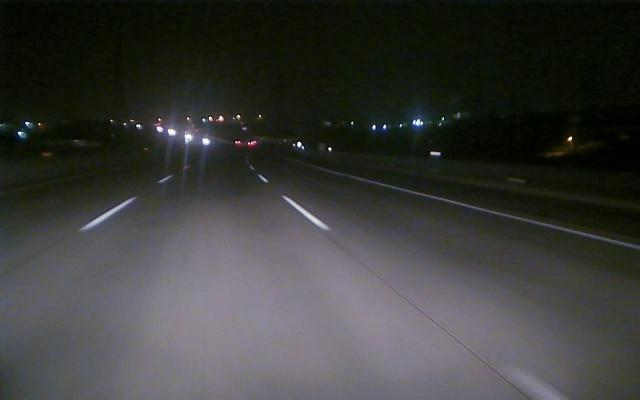lane: (324, 169, 638, 251), (78, 175, 174, 233), (259, 174, 333, 231)
